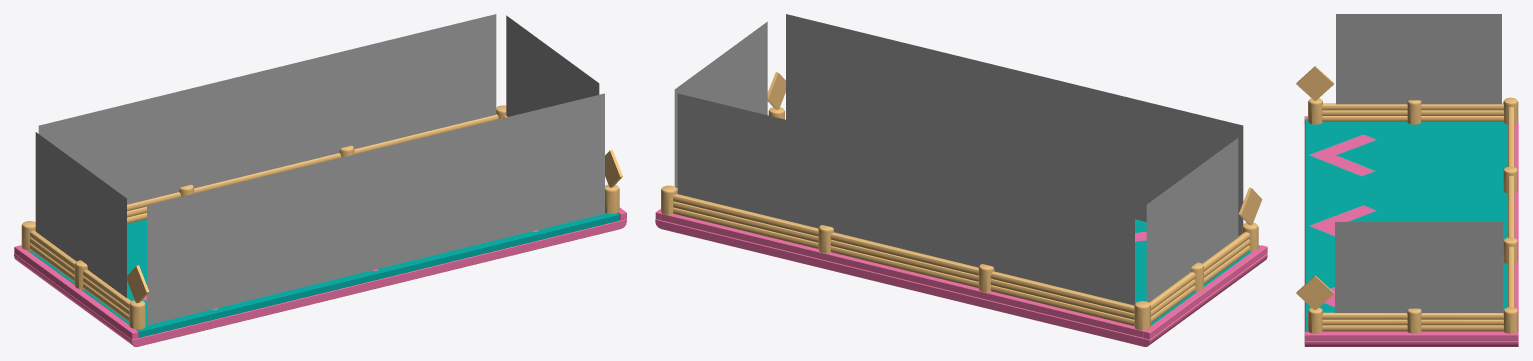
Rendered from SFP0110003.fbx.
3 views of the same model, side by side, from view 1: azimuth 30°, elevation 25°; view 2: azimuth 150°, elevation 25°; view 3: azimuth 270°, elevation 25° (orthographic). The views are drawn at different scales.
Visible parts, largest first — view 1: smSFP0110003, Trigger_Wall; view 2: smSFP0110003, Trigger_Wall; view 3: smSFP0110003.
Boxes of the visible parts, x1=… form: smSFP0110003: x1=14, y1=14, x2=626, y2=346; Trigger_Wall: x1=147, y1=93, x2=604, y2=325; smSFP0110003: x1=655, y1=21, x2=1267, y2=346; Trigger_Wall: x1=786, y1=14, x2=1243, y2=236; smSFP0110003: x1=1296, y1=14, x2=1518, y2=346.
Bounding box in the file's own units: 1926 × 503 × 827.
